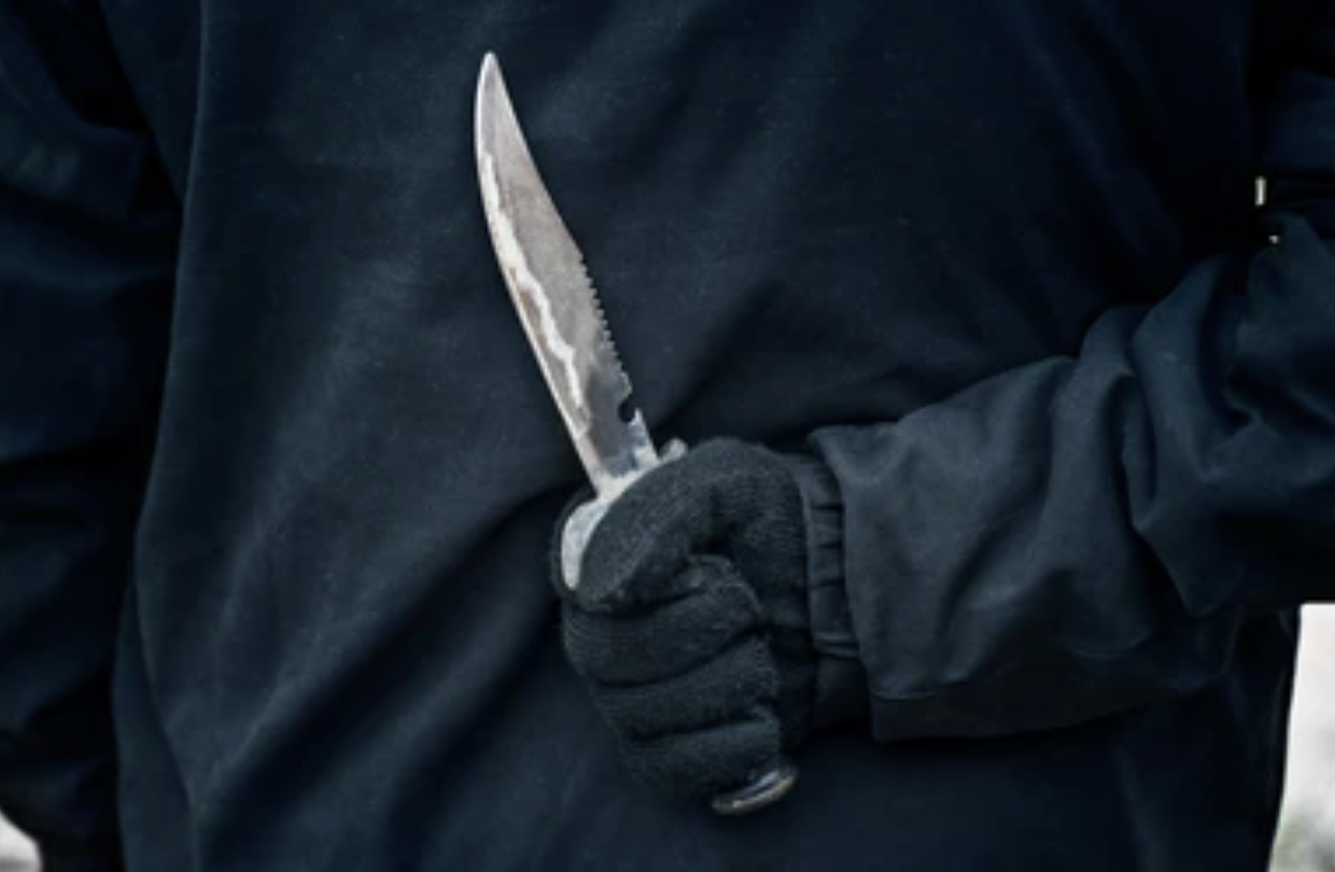knife_46.png: (378, 34, 870, 822)
